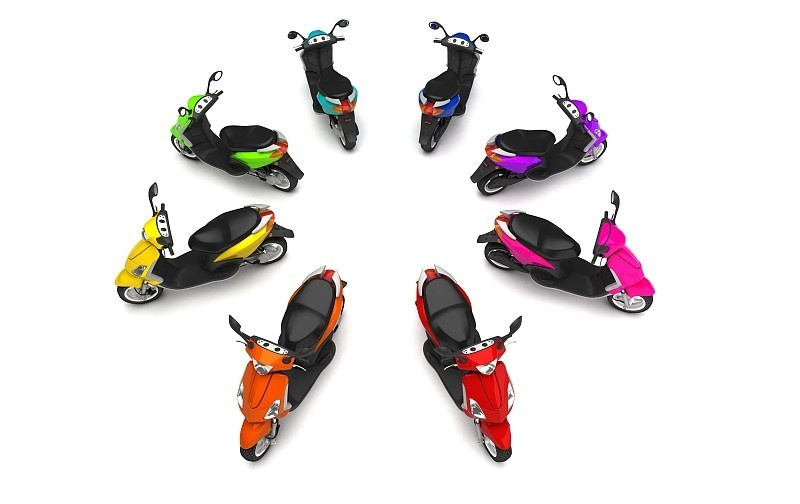non-vehicle: (231, 267, 345, 453), (107, 189, 297, 299), (414, 273, 520, 452), (480, 202, 656, 306), (472, 81, 605, 198), (167, 80, 304, 193), (286, 23, 363, 143), (419, 18, 484, 148)
